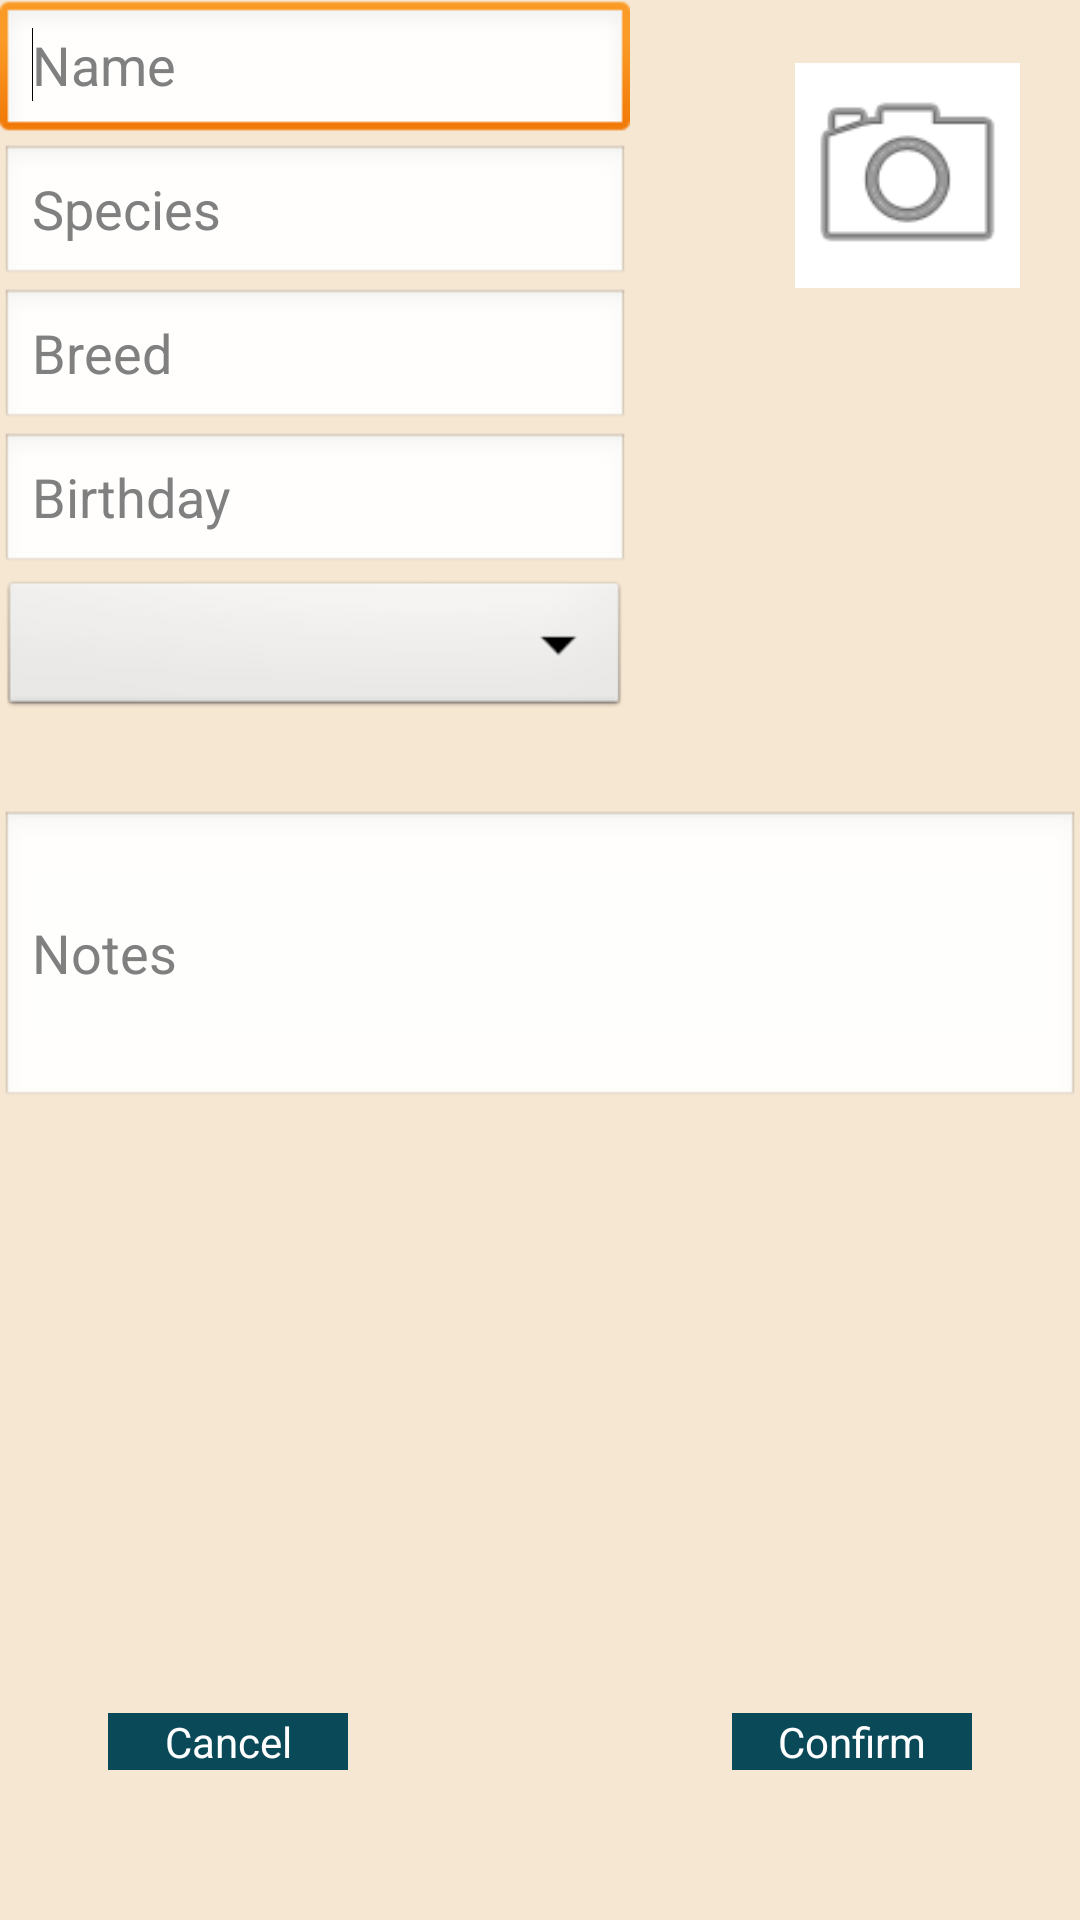

Where icons sit on this 1080x1920 app screen, as (x1, y1, x2, y2):
camera: (795, 63, 1020, 288)
